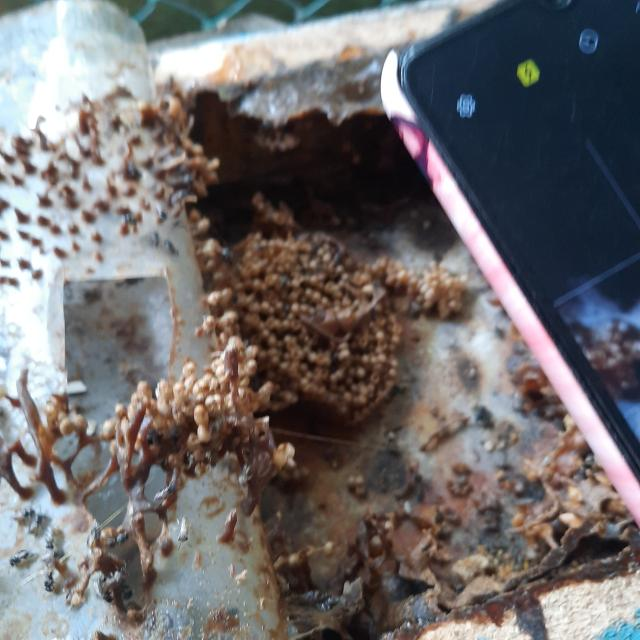honeybee: (26, 510, 45, 536), (11, 507, 36, 523), (10, 548, 28, 566), (45, 572, 58, 596), (110, 532, 127, 546), (44, 536, 57, 552), (51, 548, 63, 562)
